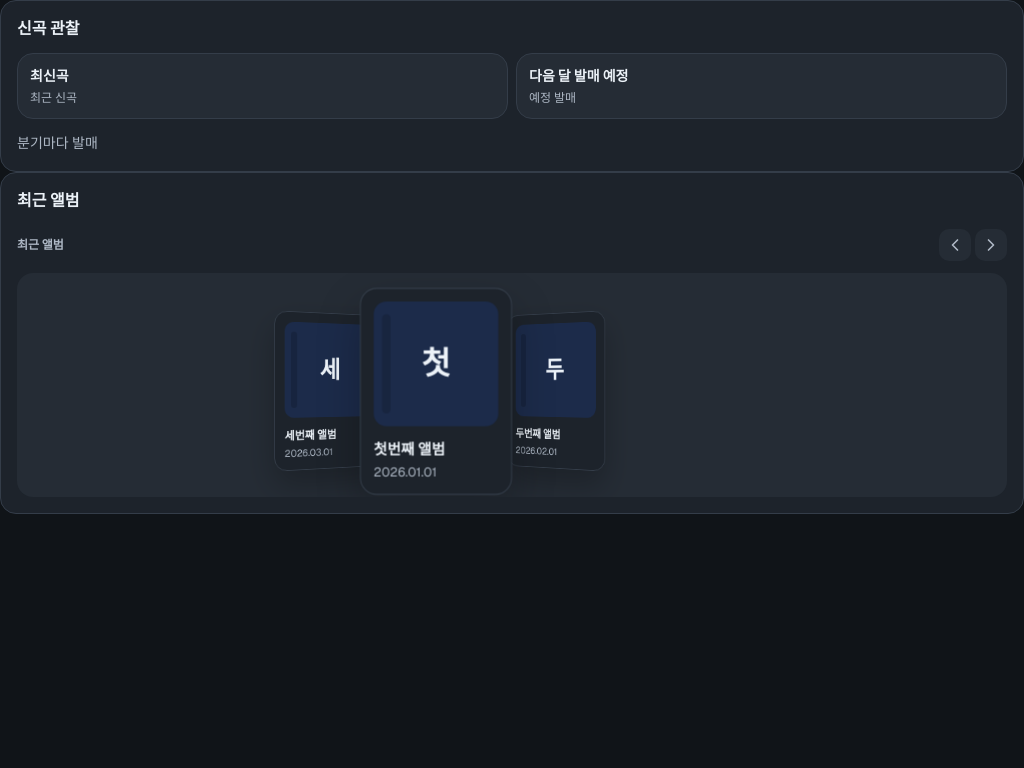
Test: ArtistDetailSection › 트랙을 누르면 트랙 상세로 바뀌고 돌아가기 버튼으로 앨범 정보로 돌아온다
Note: 첫 번째 앨범을 열고
Click the button "첫 첫번째 앨범 2026.01.01": {"x": 436, "y": 391} x1=360 y1=288 x2=512 y2=495
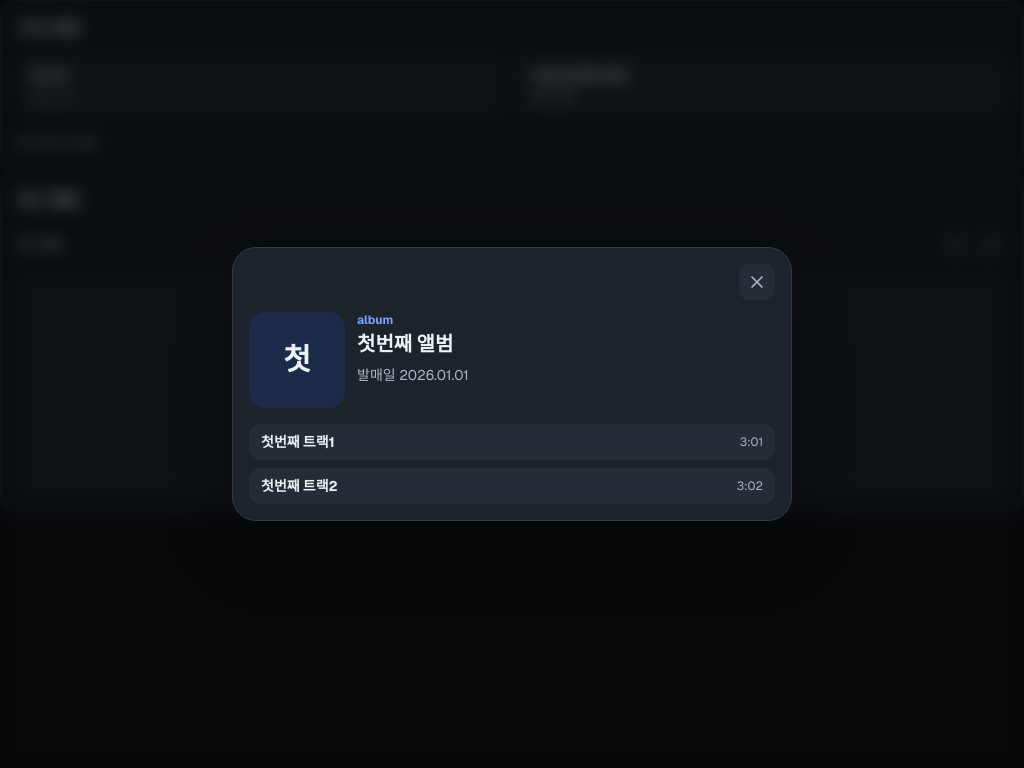
Note: 트랙을 클릭하면 트랙 상세로 바뀐다
Click the button "첫번째 트랙2 3:02": {"x": 299, "y": 486} x1=249 y1=468 x2=775 y2=504
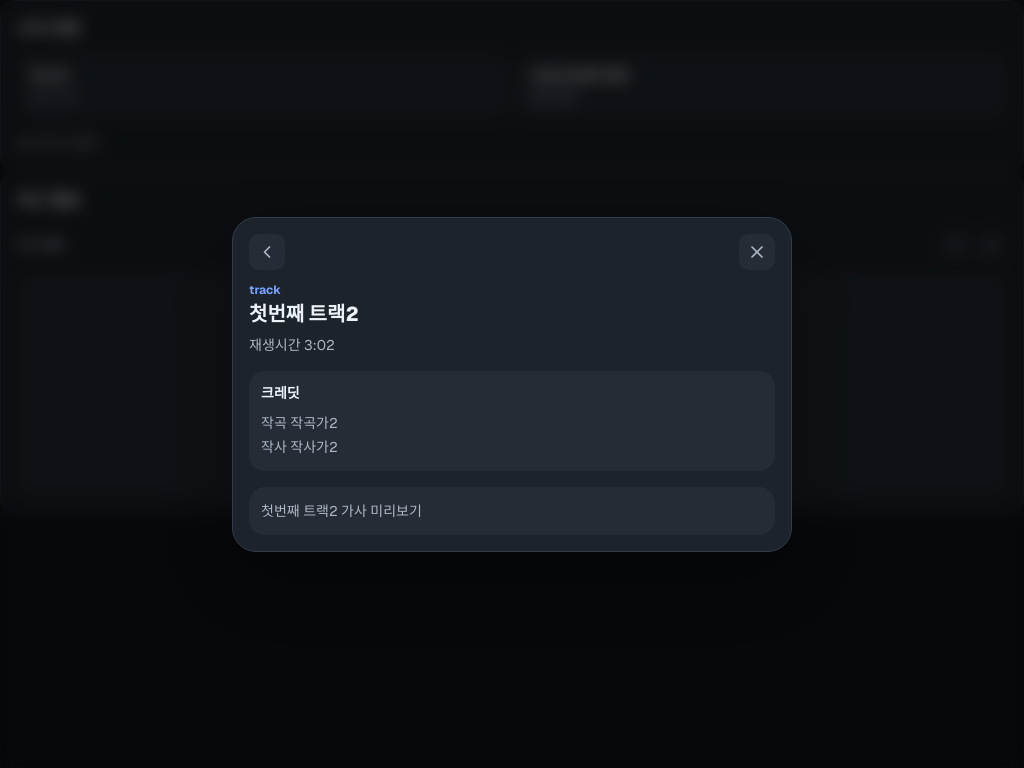
Expected: the dialog "첫번째 트랙2" is shown, x1=232 y1=216 x2=792 y2=552
Expected: the text "작곡 작곡가2" is shown, x1=261 y1=414 x2=338 y2=432
Note: 돌아가기 버튼으로 앨범 정보로 돌아온다
Click the button named "앨범 정보로 돌아가기": {"x": 267, "y": 252} x1=249 y1=234 x2=285 y2=270
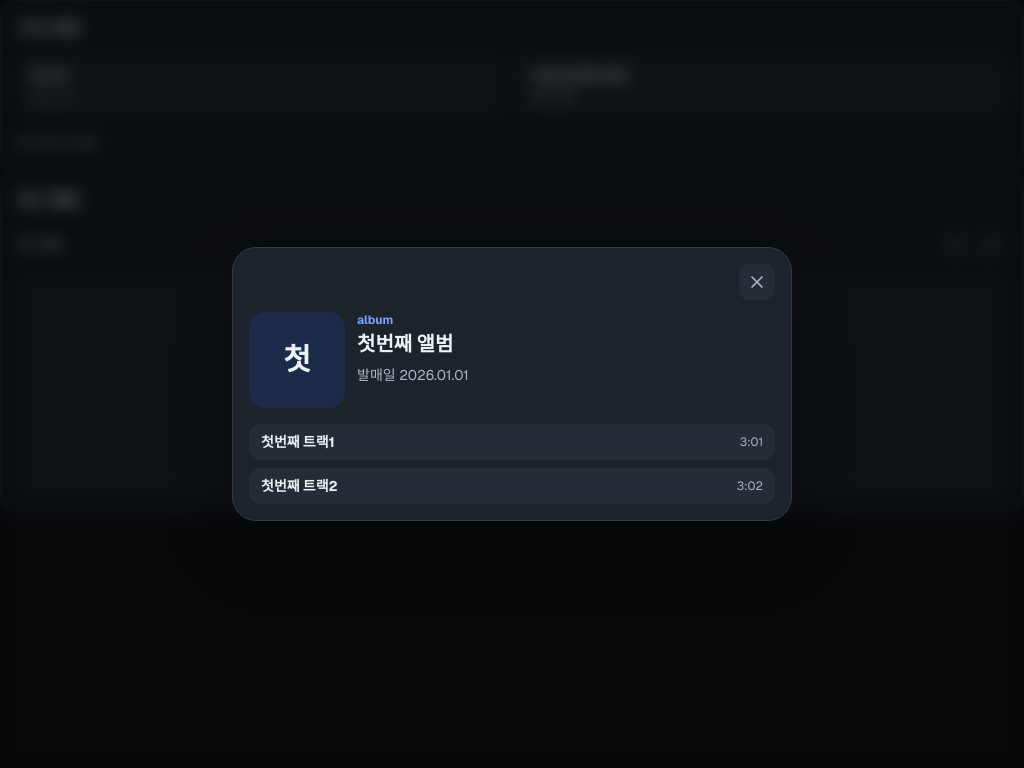
Expected: the dialog "첫번째 앨범" is shown, x1=232 y1=247 x2=792 y2=521
